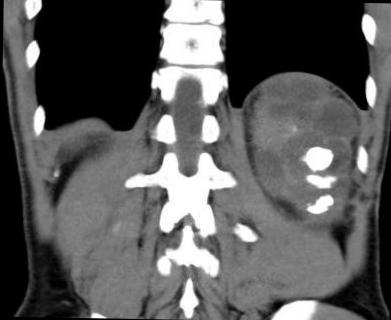Tas_Var: (296, 139, 342, 174), (300, 173, 343, 191), (303, 204, 331, 213), (315, 195, 335, 207)
